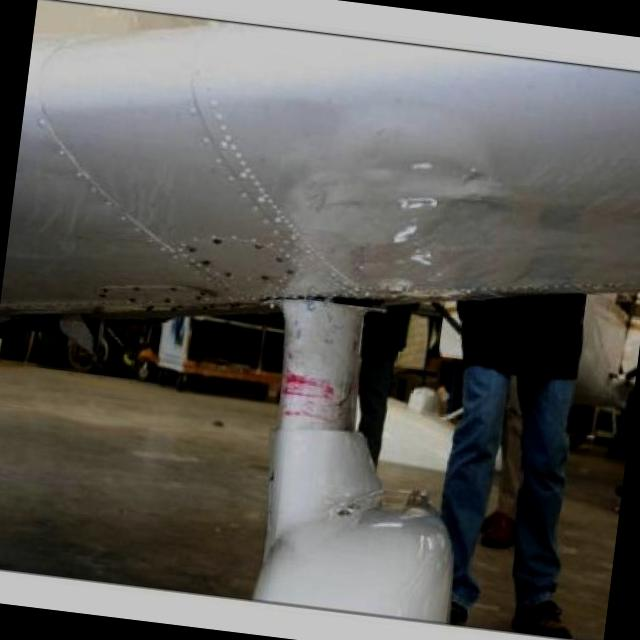dent: (397, 184, 434, 212)
